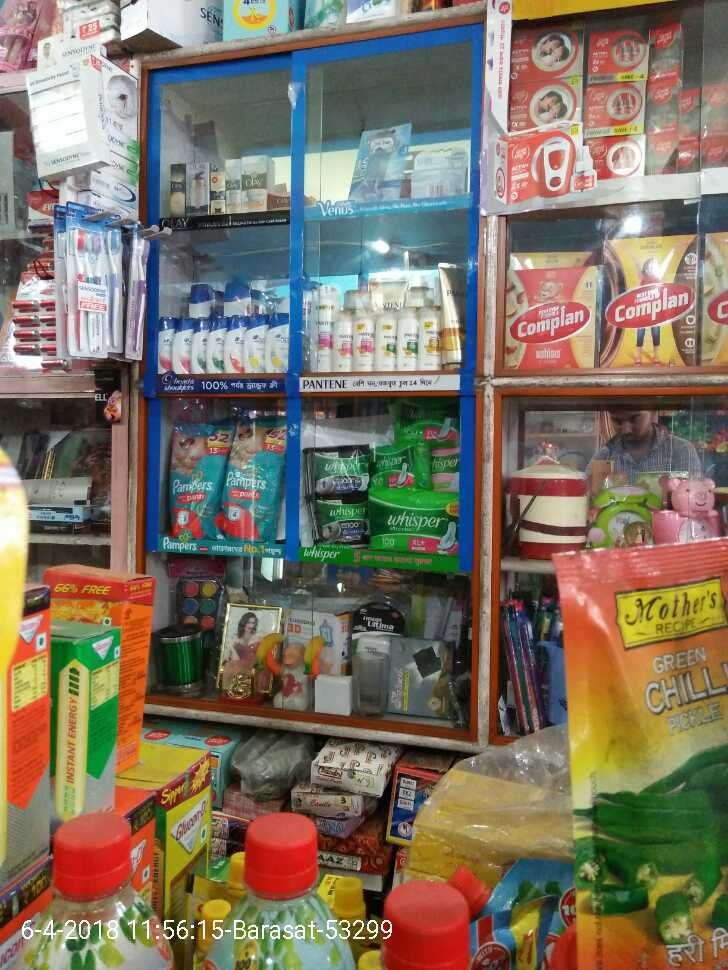venus: (350, 123, 407, 199), (410, 145, 466, 197)
